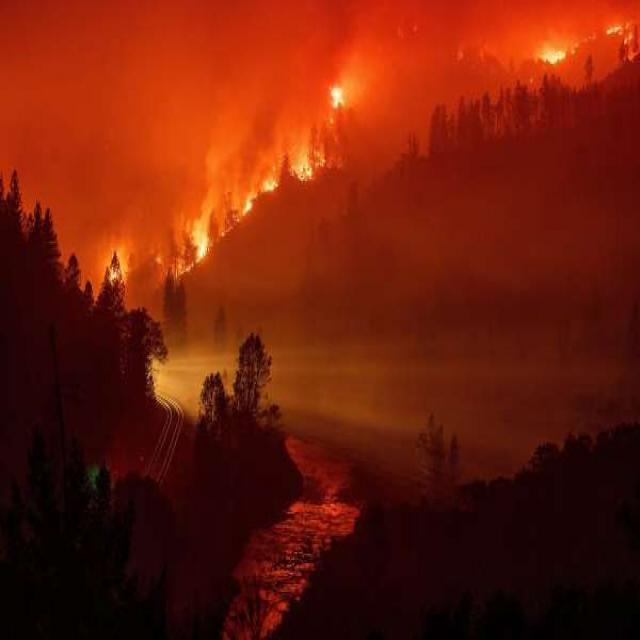fire: (152, 70, 353, 307), (508, 11, 638, 91)
